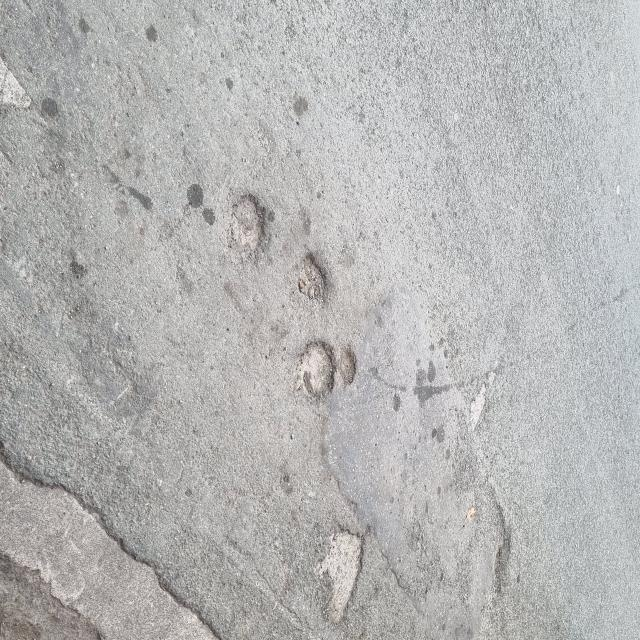pothole: (187, 176, 399, 423)
